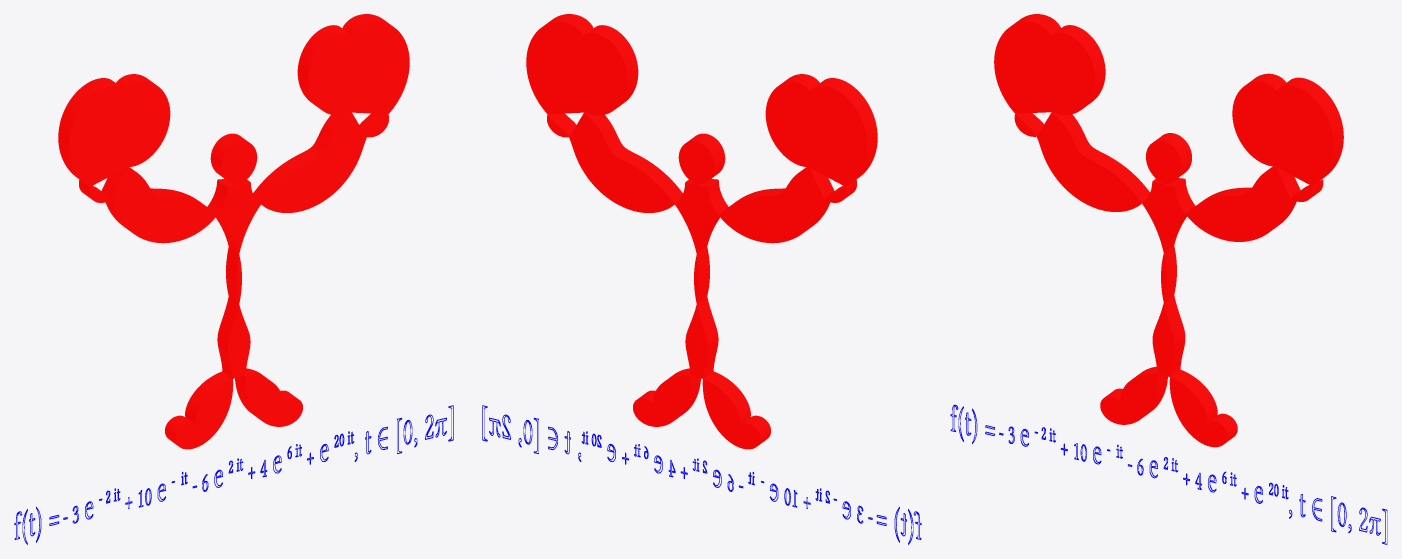
The model's file is SimpleBeauty39.glb.
3 renders of one model, left to right at view 1: azimuth 30°, elevation 25°; view 2: azimuth 150°, elevation 25°; view 3: azimuth 330°, elevation 25°, orthographic.
Size of the model in its own units: 1.2 by 1.16 by 0.05.
